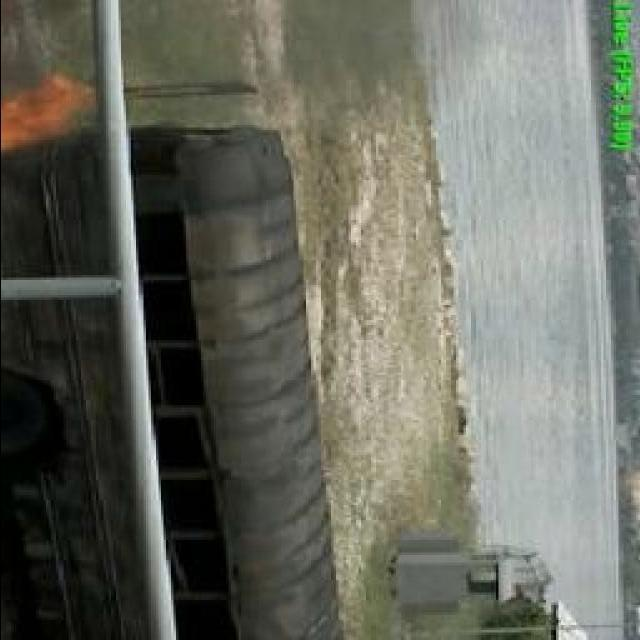Fire: (0, 70, 85, 145)
